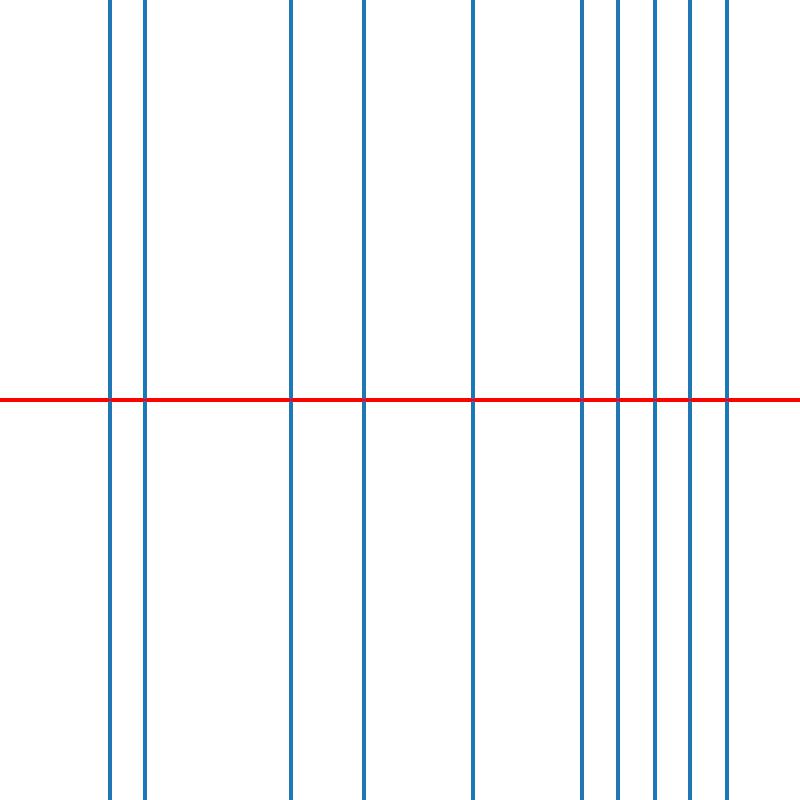root: (650, 396, 658, 404), (141, 396, 149, 404), (287, 396, 294, 404), (360, 396, 367, 404), (105, 396, 112, 404), (723, 396, 730, 404), (469, 396, 476, 404), (614, 396, 621, 404), (687, 396, 694, 404), (578, 396, 585, 404)
